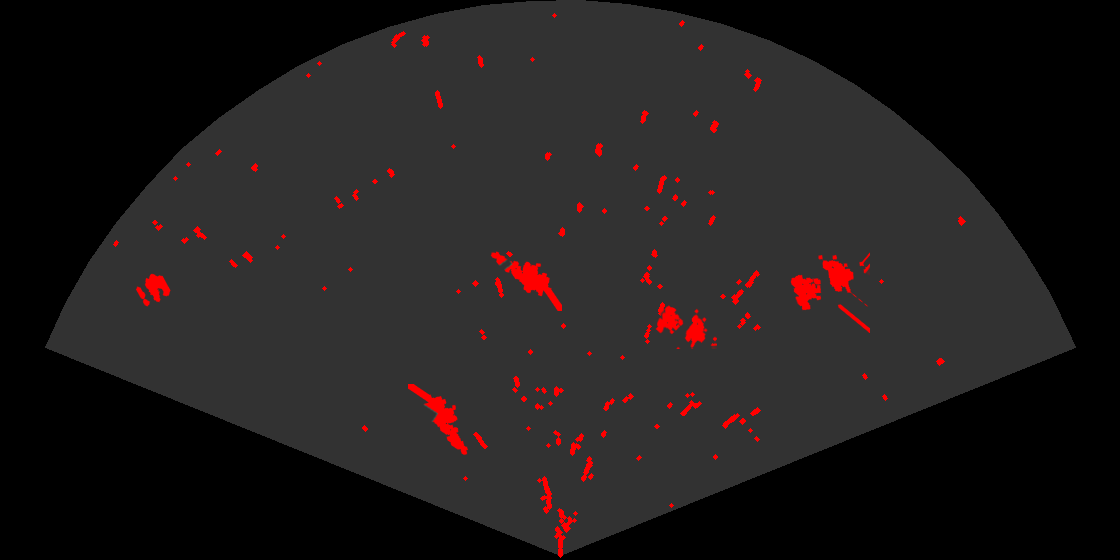ball: (134, 272, 172, 308)
cage: (789, 251, 870, 333), (654, 304, 717, 349)
frogman: (408, 384, 470, 457), (489, 250, 562, 311)
